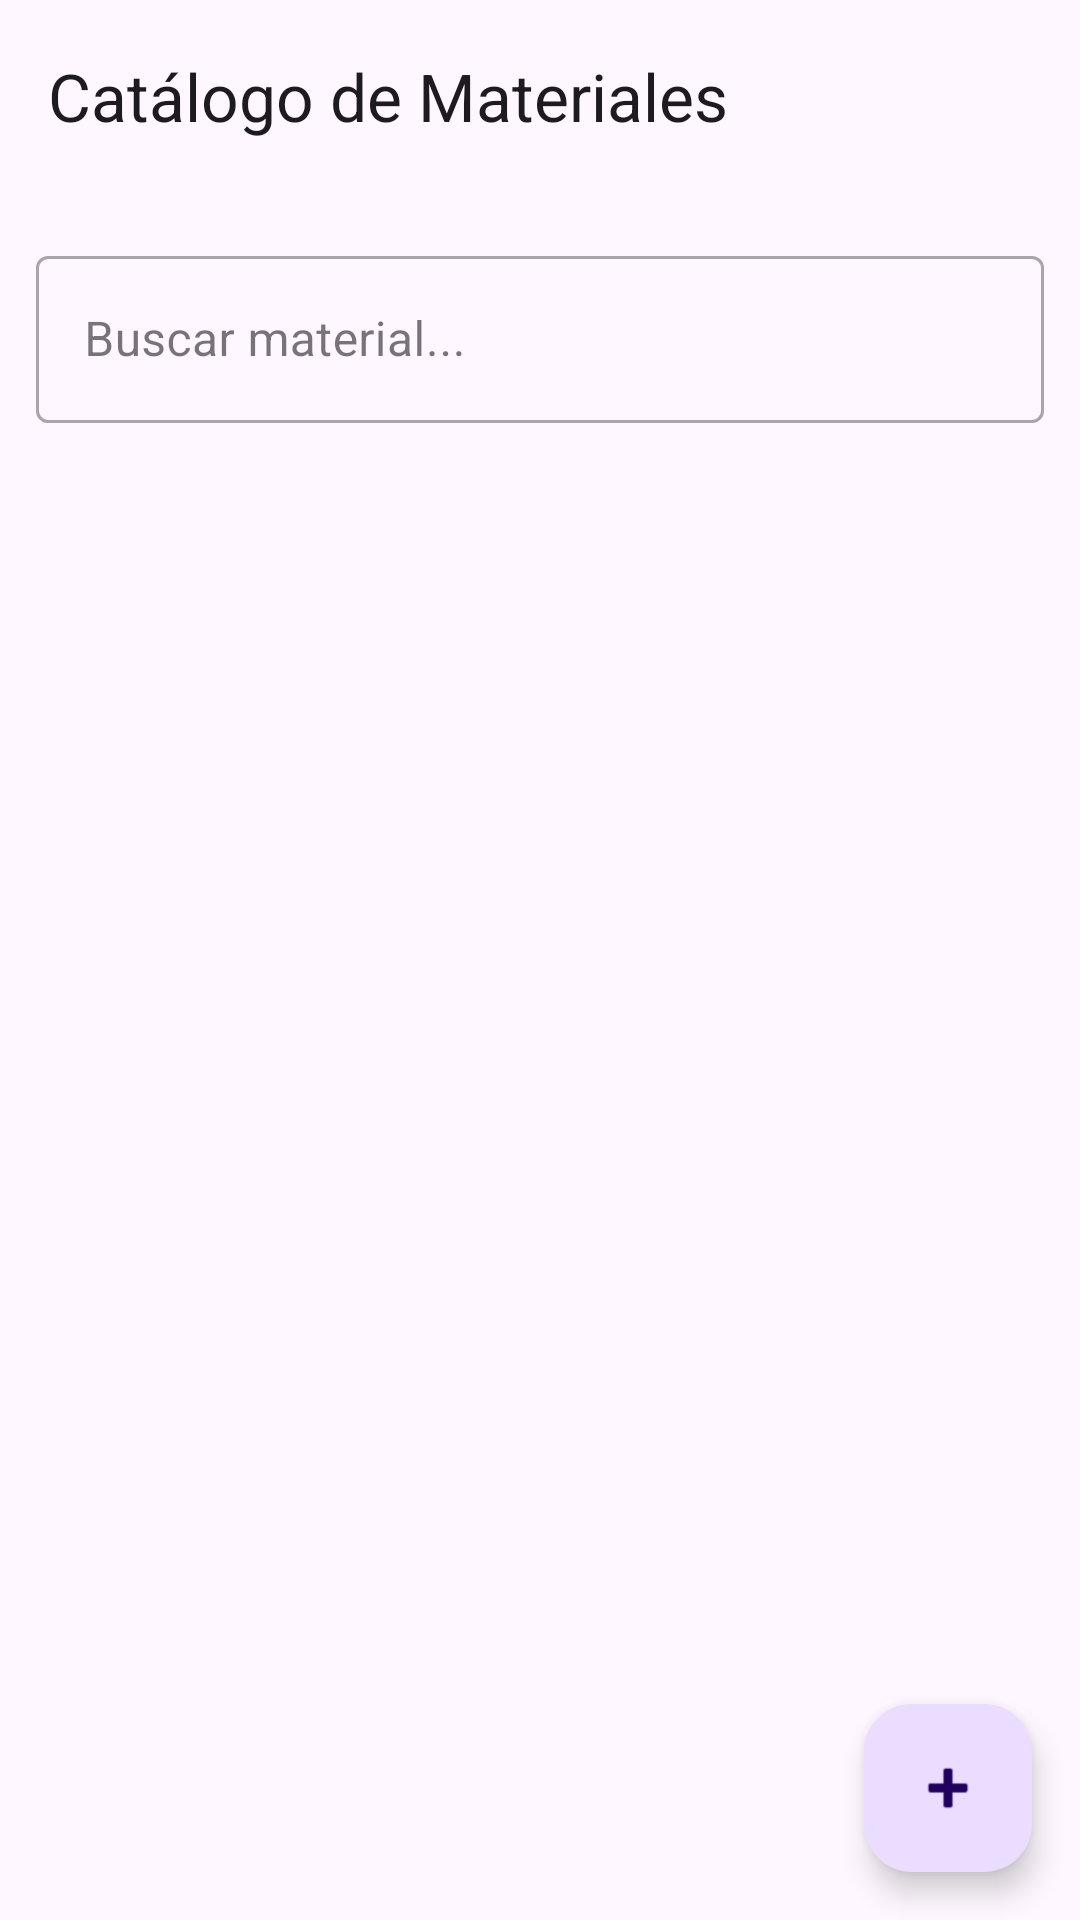

Screen size 1080x1920. Icon name, then its box in pixels as [x1=x1, y1=y1, x2=x2, y2=y2]:
Agregar material: [x1=864, y1=1704, x2=1032, y2=1872]
